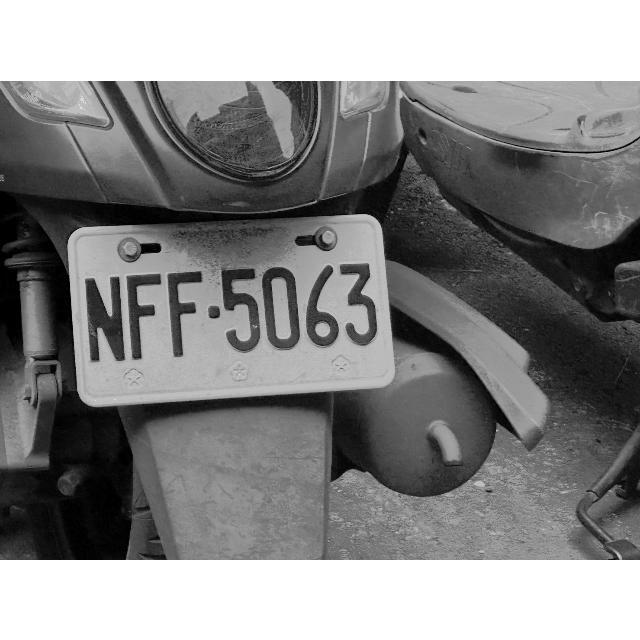-: (207, 302, 221, 324)
0: (262, 264, 302, 354)
3: (338, 260, 380, 350)
5: (220, 265, 262, 355)
6: (304, 262, 341, 352)
F: (126, 271, 164, 363), (166, 268, 204, 358)
N: (84, 274, 126, 362)
